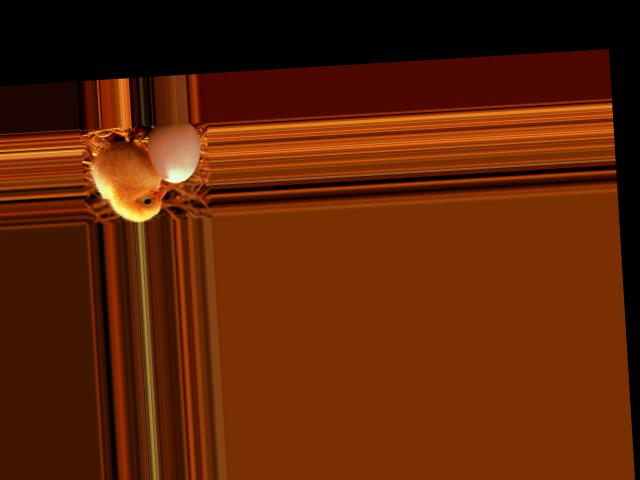egg: (145, 121, 202, 184)
